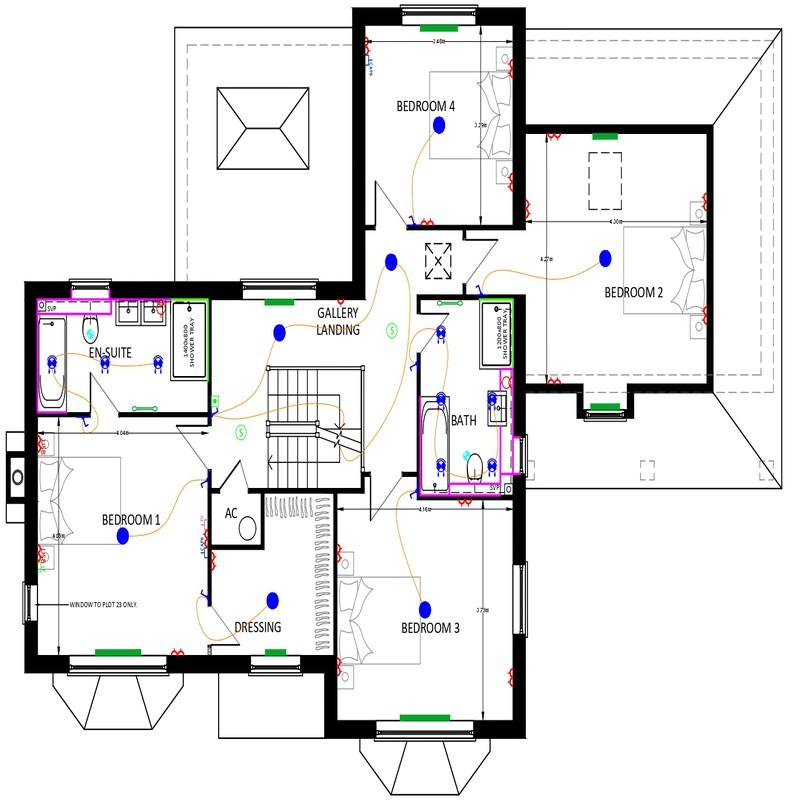Cat 6 Data Socket: (365, 55, 374, 76), (199, 537, 208, 558)
Ceiling Mounted Continuous Extract FanWith Boost Mode Activated By Light Switch: (463, 451, 471, 460), (87, 329, 94, 339)
Co-Ax TV Socket: (200, 515, 207, 529)
Double Socket: (525, 199, 532, 219), (458, 499, 473, 508), (201, 529, 208, 547), (211, 552, 217, 571), (337, 658, 343, 677), (507, 669, 513, 688), (547, 133, 561, 141), (547, 376, 561, 384), (507, 60, 513, 78), (507, 173, 513, 191), (701, 193, 707, 211), (701, 307, 707, 325), (337, 544, 343, 562), (421, 217, 434, 225), (365, 37, 371, 54), (171, 648, 184, 655)
Full Height Tiling: (173, 298, 208, 379), (480, 298, 513, 368)
Light Switch: (79, 417, 90, 427), (408, 215, 417, 224), (475, 284, 483, 294), (409, 361, 417, 371), (211, 407, 219, 416), (200, 478, 207, 488), (200, 589, 207, 599), (410, 489, 417, 499)
Low Energy Downlighter: (435, 458, 446, 477), (47, 355, 57, 374), (100, 355, 110, 374), (153, 355, 163, 374), (436, 325, 446, 344), (436, 391, 446, 410), (487, 458, 497, 477), (488, 391, 497, 410)
Low Energy Pendant Light: (433, 116, 446, 135), (599, 249, 612, 268), (385, 253, 398, 271), (273, 324, 286, 342), (266, 592, 279, 609), (117, 527, 129, 545), (419, 601, 431, 619)
Mains Wired Smoke Detector: (386, 322, 398, 338), (235, 424, 247, 440)
Programmable Room Thermostat: (211, 395, 219, 406)
Radiator: (400, 715, 450, 721), (95, 649, 141, 655), (420, 25, 458, 32), (591, 403, 620, 410), (592, 133, 618, 140), (264, 299, 294, 305), (265, 649, 286, 655)
Shaver Socket: (156, 299, 167, 318), (500, 376, 512, 389)
Single Socket: (337, 299, 344, 307)
Telephone Socket: (37, 563, 46, 573)
USB Double Socket: (37, 435, 47, 454), (37, 544, 46, 563)
